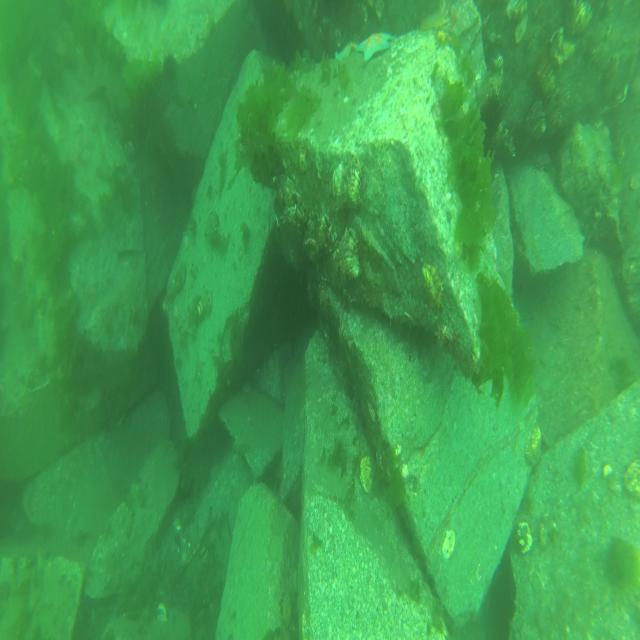echinus: (477, 90, 507, 140), (159, 53, 182, 87)
starfish: (353, 31, 396, 63), (331, 40, 364, 63)
